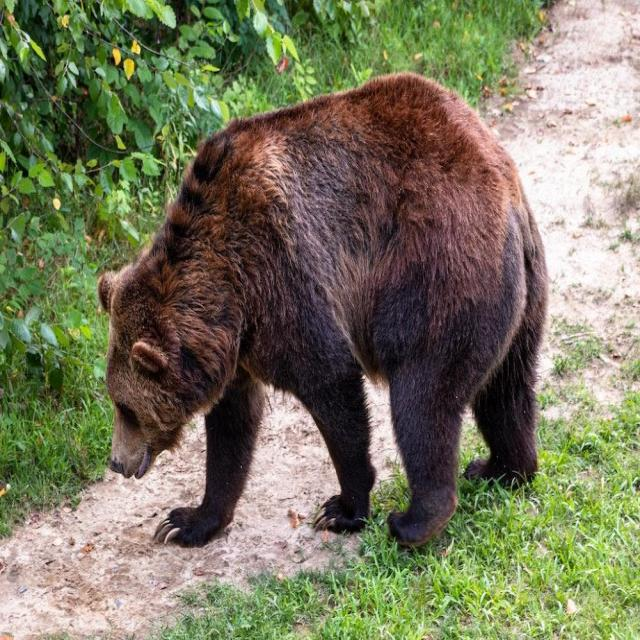Bear: (97, 72, 552, 551)
